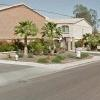Palm tree: (11, 16, 37, 62)
